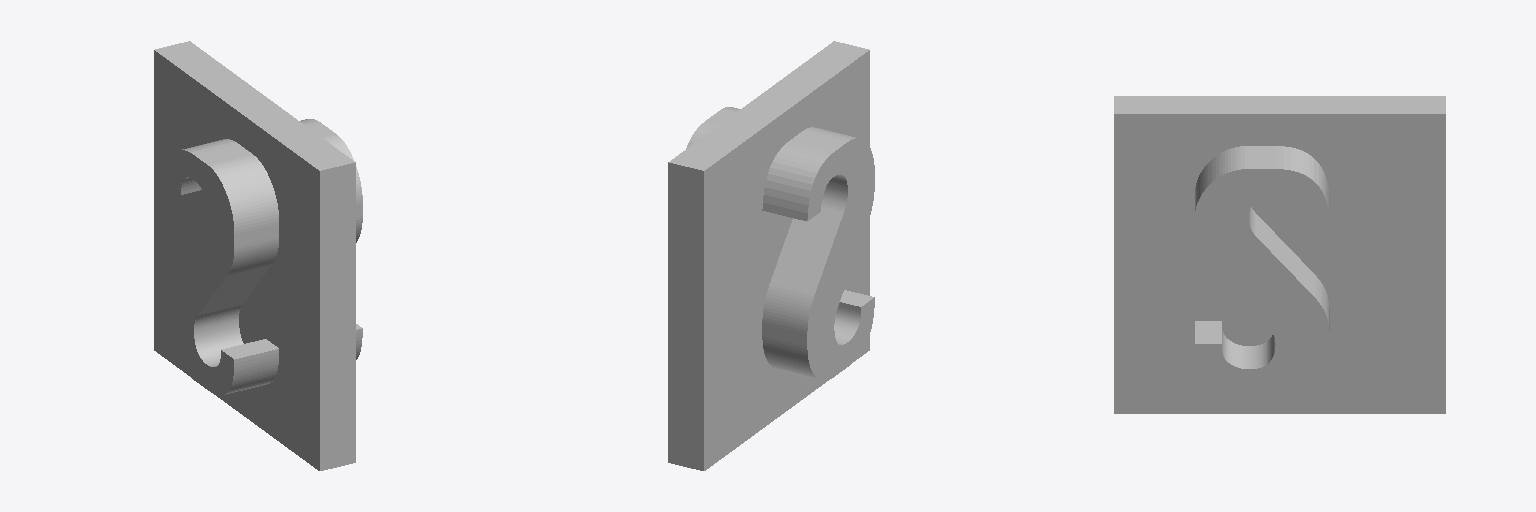
Rendered from letter_S.obj.
3 views of the same model, side by side, from view 1: azimuth 30°, elevation 25°; view 2: azimuth 150°, elevation 25°; view 3: azimuth 270°, elevation 25° (orthographic).
Parts seen in each view (by area): view 1: window, Text; view 2: window, Text; view 3: window, Text.
Boxes of the visible parts, x1=… form: window: x1=154, y1=41, x2=355, y2=470; Text: x1=167, y1=119, x2=362, y2=395; window: x1=668, y1=41, x2=869, y2=470; Text: x1=686, y1=107, x2=874, y2=380; window: x1=1114, y1=96, x2=1445, y2=413; Text: x1=1195, y1=146, x2=1329, y2=393.
Bounding box in the file's own units: 0.894 × 2 × 2.